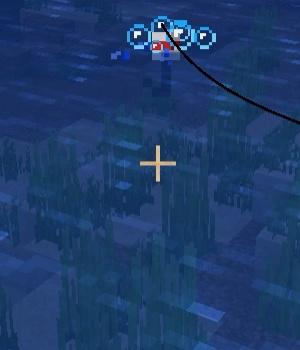up: (142, 29, 183, 102)
